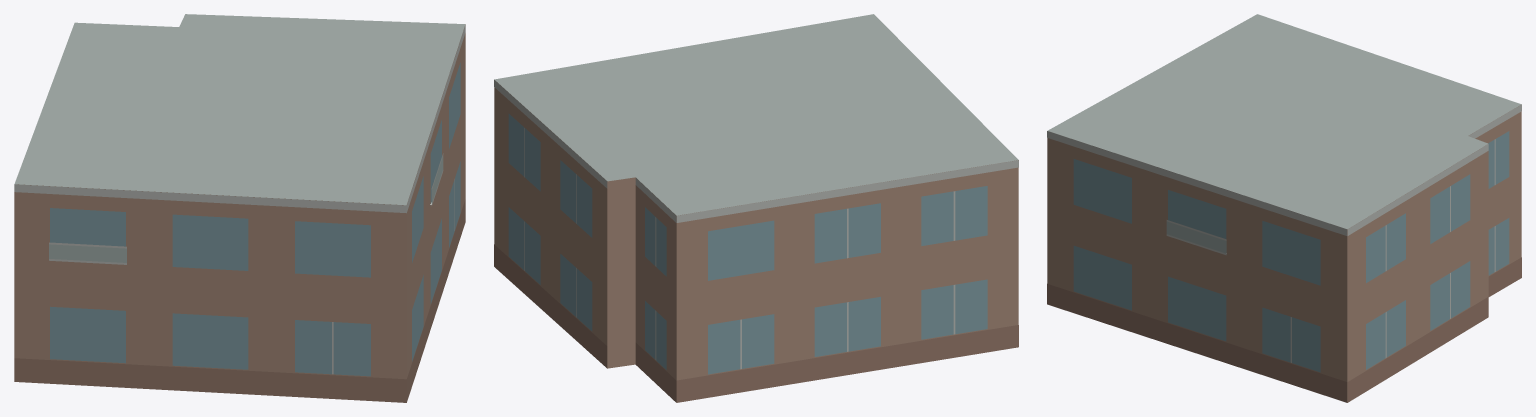
File: survey-upis-32850022.glb
3 renders of one model, left to right at view 1: azimuth 30°, elevation 25°; view 2: azimuth 150°, elevation 25°; view 3: azimuth 270°, elevation 25°, orthographic. The views are drawn at different scales.
Visible parts, largest first — view 1: survey-upis-32850022.tmp; view 2: survey-upis-32850022.tmp; view 3: survey-upis-32850022.tmp.
Boxes of the visible parts, left/top/right/bottom form: survey-upis-32850022.tmp: left=14, top=14, right=465, bottom=402; survey-upis-32850022.tmp: left=494, top=14, right=1018, bottom=402; survey-upis-32850022.tmp: left=1047, top=14, right=1521, bottom=402.
Bounding box in the file's own units: 16.24 × 6.1 × 15.13.
